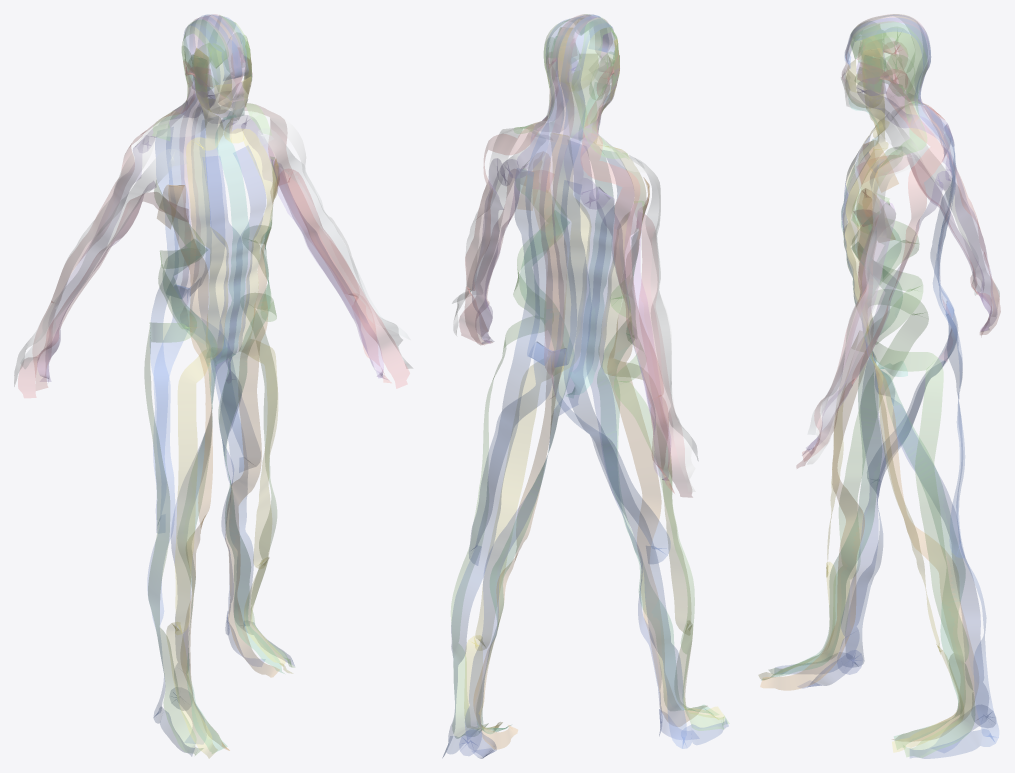
Rendered from skin-zones-male.glb.
3 renders of one model, left to right at view 1: azimuth 30°, elevation 25°; view 2: azimuth 150°, elevation 25°; view 3: azimuth 270°, elevation 25°, orthographic. The views are drawn at different scales.
Visible parts, largest first — view 1: ST:R computed skin zone, BL:R computed skin zone, BL:L computed skin zone, GB:R computed skin zone, KI:R computed skin zone, ST:L computed skin zone, SP:L computed skin zone, SP:R computed skin zone, GB:L computed skin zone, KI:L computed skin zone, LR:L computed skin zone, LR:R computed skin zone (+14 smaller); view 2: BL:R computed skin zone, BL:L computed skin zone, ST:L computed skin zone, KI:L computed skin zone, GB:R computed skin zone, TE:R computed skin zone, GV:M computed skin zone, SP:R computed skin zone, GB:L computed skin zone, KI:R computed skin zone, ST:R computed skin zone, SP:L computed skin zone (+14 smaller); view 3: GB:L computed skin zone, GB:R computed skin zone, BL:L computed skin zone, SP:R computed skin zone, LR:L computed skin zone, KI:L computed skin zone, LR:R computed skin zone, KI:R computed skin zone, SP:L computed skin zone, LI:L computed skin zone, ST:L computed skin zone, BL:R computed skin zone (+14 smaller).
Part boxes in pixels (bbox=[...]): ST:R computed skin zone: bbox=[166, 48, 232, 758]; BL:R computed skin zone: bbox=[147, 15, 241, 756]; BL:L computed skin zone: bbox=[187, 14, 294, 665]; GB:R computed skin zone: bbox=[144, 20, 228, 755]; KI:R computed skin zone: bbox=[170, 156, 241, 743]; ST:L computed skin zone: bbox=[224, 43, 292, 673]; SP:L computed skin zone: bbox=[225, 159, 279, 677]; SP:R computed skin zone: bbox=[157, 184, 229, 750]; GB:L computed skin zone: bbox=[210, 15, 294, 667]; KI:L computed skin zone: bbox=[219, 146, 265, 666]; LR:L computed skin zone: bbox=[218, 220, 284, 673]; LR:R computed skin zone: bbox=[163, 239, 227, 753]; BL:R computed skin zone: bbox=[551, 15, 728, 748]; BL:L computed skin zone: bbox=[442, 14, 607, 757]; ST:L computed skin zone: bbox=[464, 27, 598, 731]; KI:L computed skin zone: bbox=[459, 144, 606, 758]; GB:R computed skin zone: bbox=[572, 17, 729, 730]; TE:R computed skin zone: bbox=[580, 52, 674, 493]; GV:M computed skin zone: bbox=[539, 14, 612, 397]; SP:R computed skin zone: bbox=[607, 177, 706, 726]; GB:L computed skin zone: bbox=[451, 14, 590, 738]; KI:R computed skin zone: bbox=[587, 150, 698, 739]; ST:R computed skin zone: bbox=[596, 39, 724, 719]; SP:L computed skin zone: bbox=[473, 152, 566, 749]; GB:L computed skin zone: bbox=[850, 21, 975, 757]; GB:R computed skin zone: bbox=[769, 14, 928, 674]; BL:L computed skin zone: bbox=[845, 18, 998, 758]; SP:R computed skin zone: bbox=[760, 140, 898, 690]; LR:L computed skin zone: bbox=[851, 242, 965, 749]; KI:L computed skin zone: bbox=[842, 152, 995, 752]; LR:R computed skin zone: bbox=[761, 206, 901, 680]; KI:R computed skin zone: bbox=[798, 136, 885, 688]; SP:L computed skin zone: bbox=[856, 188, 978, 741]; LI:L computed skin zone: bbox=[807, 69, 919, 464]; ST:L computed skin zone: bbox=[843, 48, 963, 752]; BL:R computed skin zone: bbox=[775, 15, 957, 673].
Size of the model in its own units: 87.22 by 182 by 57.17.
